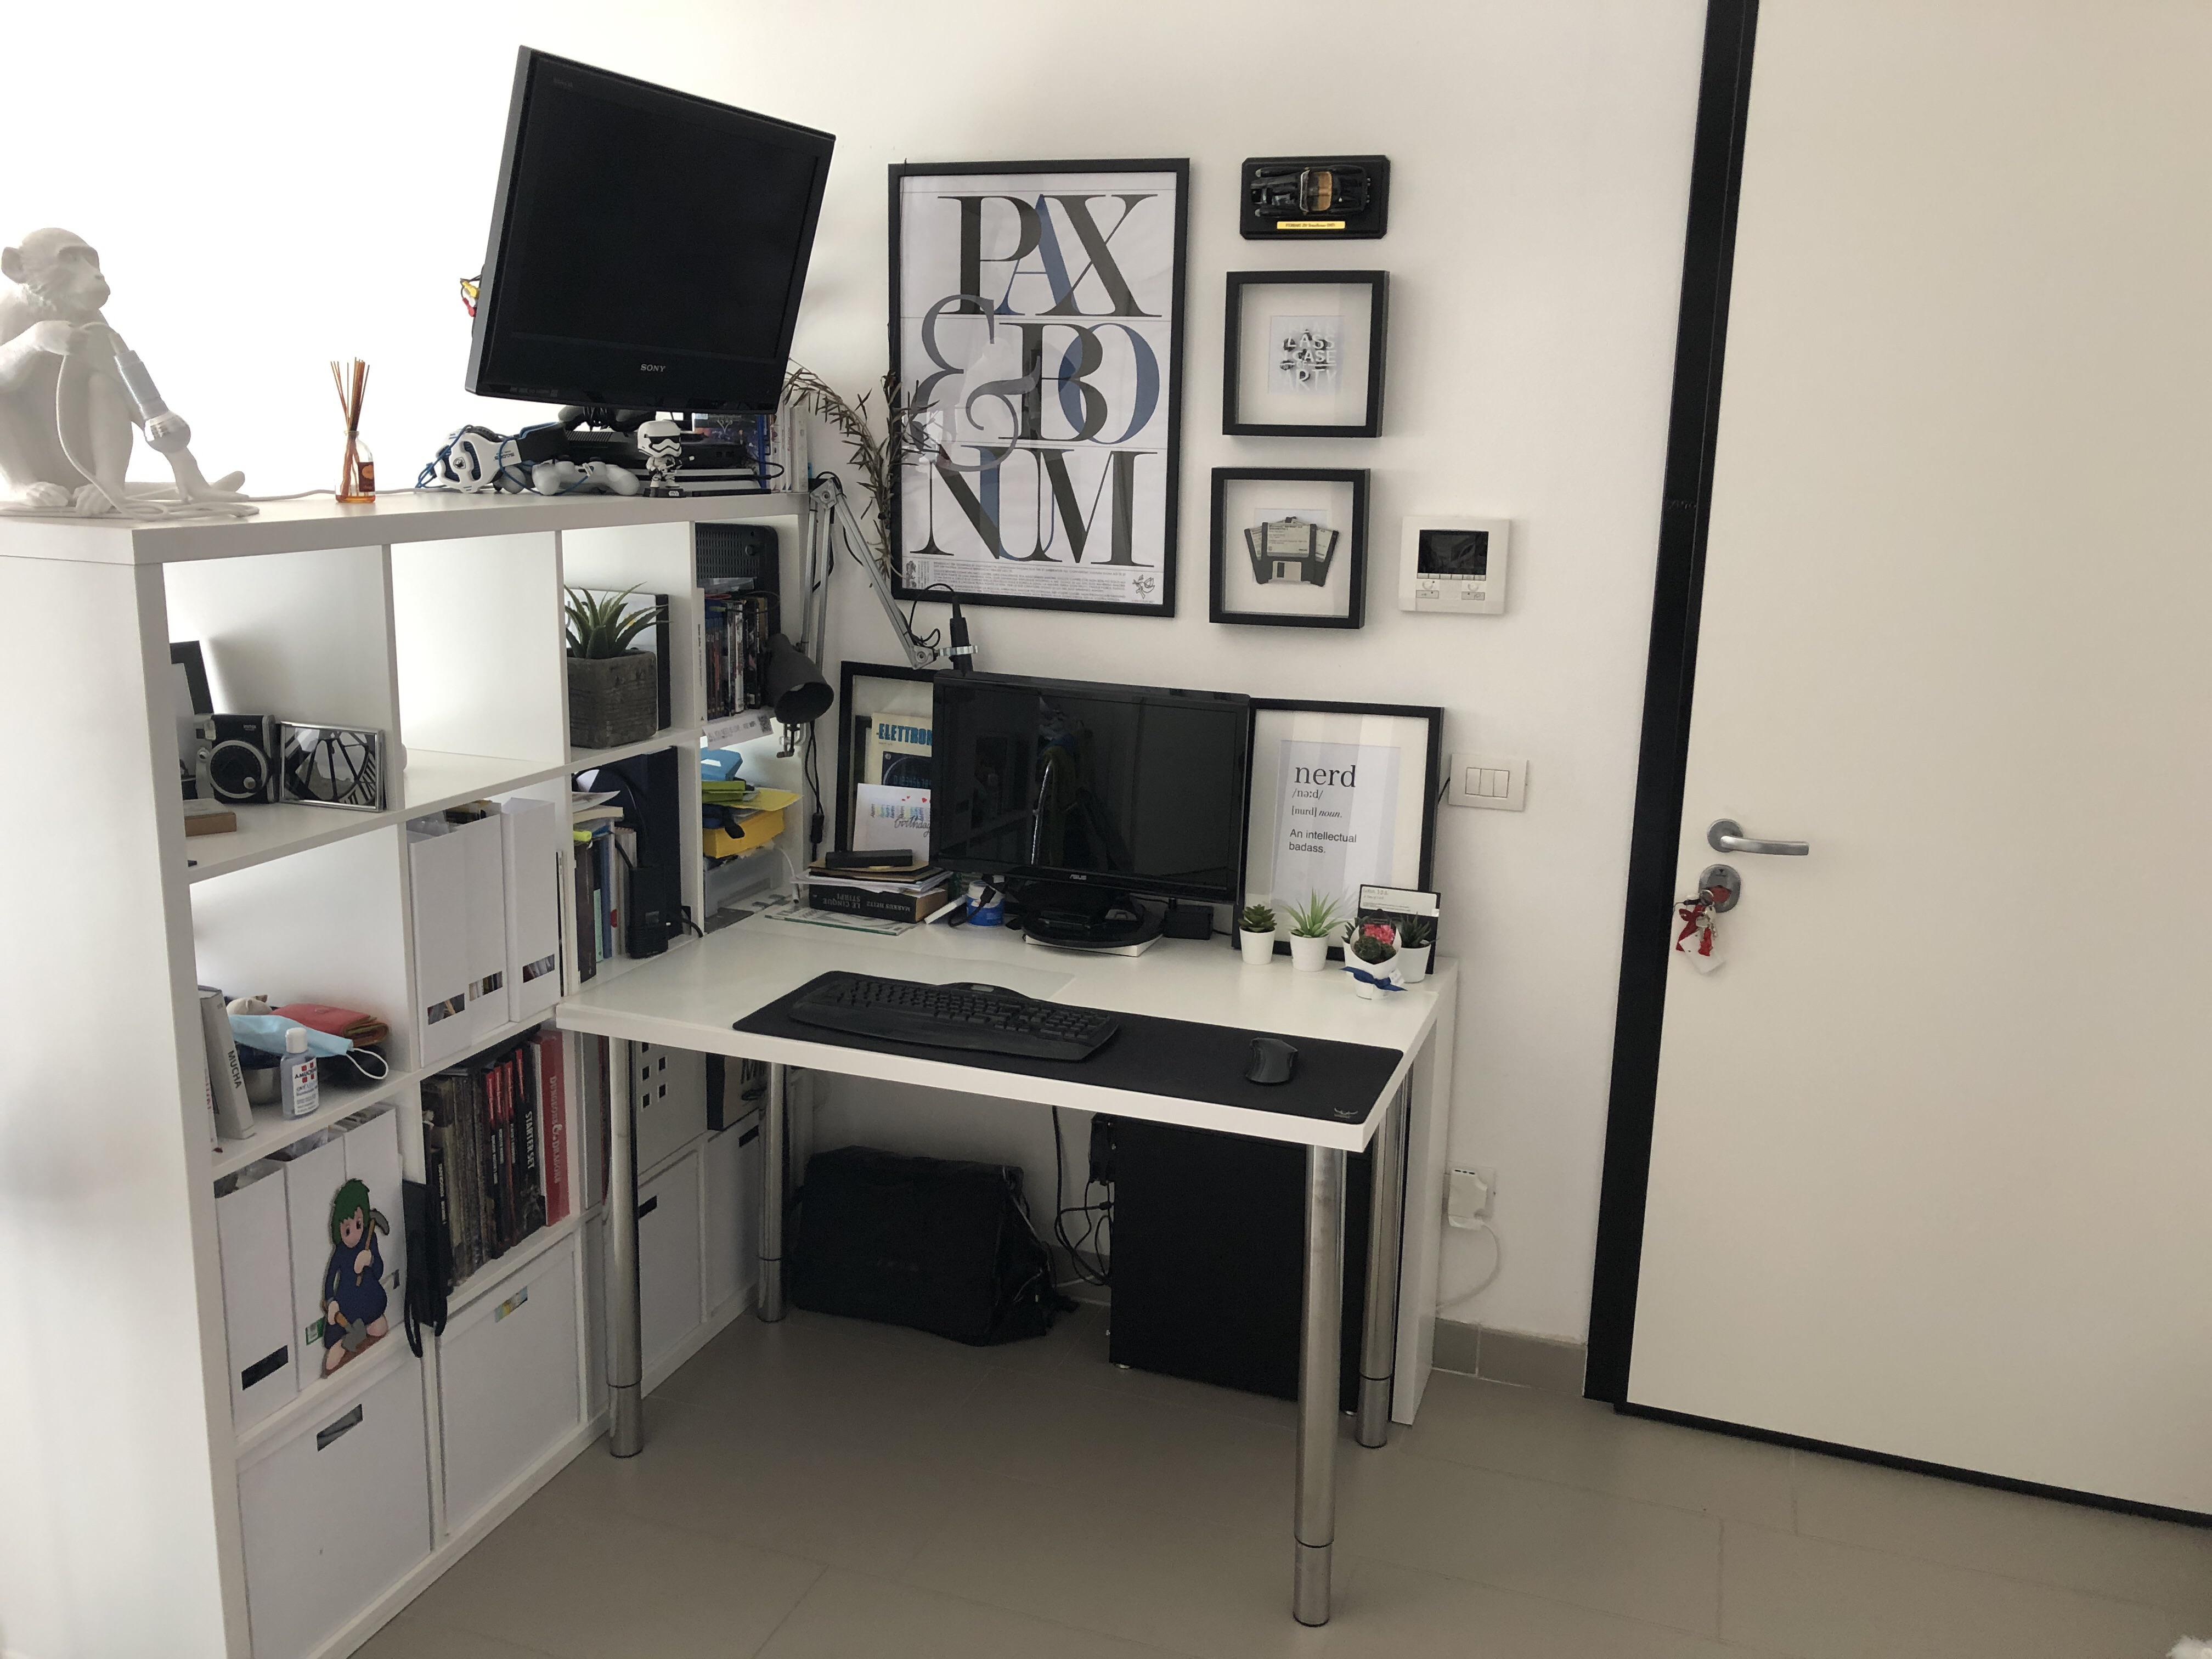Book: (423, 1030, 587, 1297), (688, 579, 789, 727)
Decoration (Generic): (0, 204, 279, 518)
Decoration (Miniature): (631, 415, 695, 505)
Decoration (Picture): (864, 138, 1400, 641), (1226, 701, 1451, 951)
Decoration (Plant): (543, 579, 681, 746), (1339, 911, 1437, 997), (1280, 880, 1343, 976), (1224, 908, 1280, 971)
Desk (Generic): (533, 864, 1463, 1636)
Desktop (Generic): (1089, 1098, 1409, 1408)
Gaming Console: (535, 429, 759, 465)
Gaming Controller: (543, 387, 662, 436), (531, 453, 651, 500)
Headphones: (418, 416, 570, 505)
Keyboard (Ergonomic): (782, 958, 1132, 1070)
Lamp (Desk): (735, 469, 986, 749)
Monitor (Landscape): (446, 33, 834, 429), (920, 662, 1261, 901)
Mouse (Ergonomic): (1230, 1028, 1317, 1093)
Mousepad (Generic): (730, 951, 1400, 1127)
